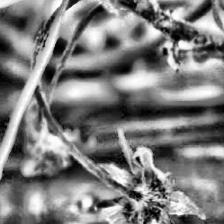Gray Mold: (84, 127, 206, 224)
